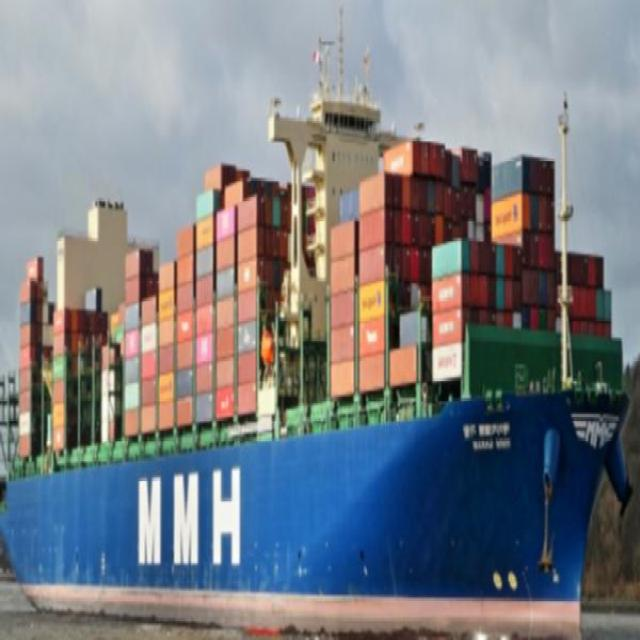Container Ship: (6, 7, 635, 636)
